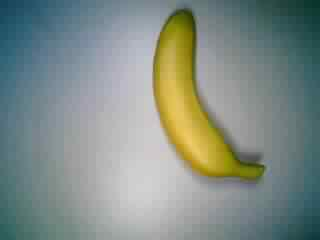banana: (148, 7, 269, 188)
